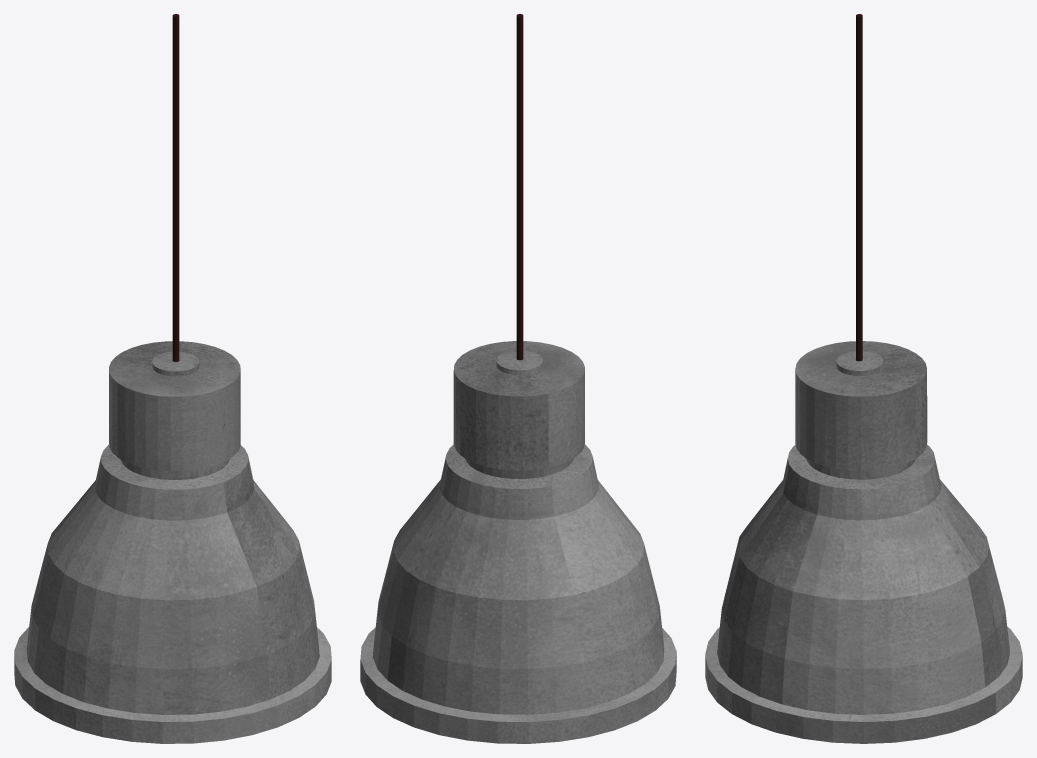
Rendered from lampshade.fbx.
The picture shows the model from 3 angles, left to right: view 1: azimuth 30°, elevation 25°; view 2: azimuth 150°, elevation 25°; view 3: azimuth 270°, elevation 25°; orthographic projection.
Visible parts, largest first — view 1: Cylinder; view 2: Cylinder; view 3: Cylinder.
Boxes of the visible parts, x1,y1,x2,y2 form: Cylinder: [14, 14, 331, 743]; Cylinder: [360, 14, 676, 743]; Cylinder: [705, 14, 1022, 743].
Size of the model in its own units: 3.29 by 7.57 by 3.29.
Materials: 1 (1 with a texture image).
